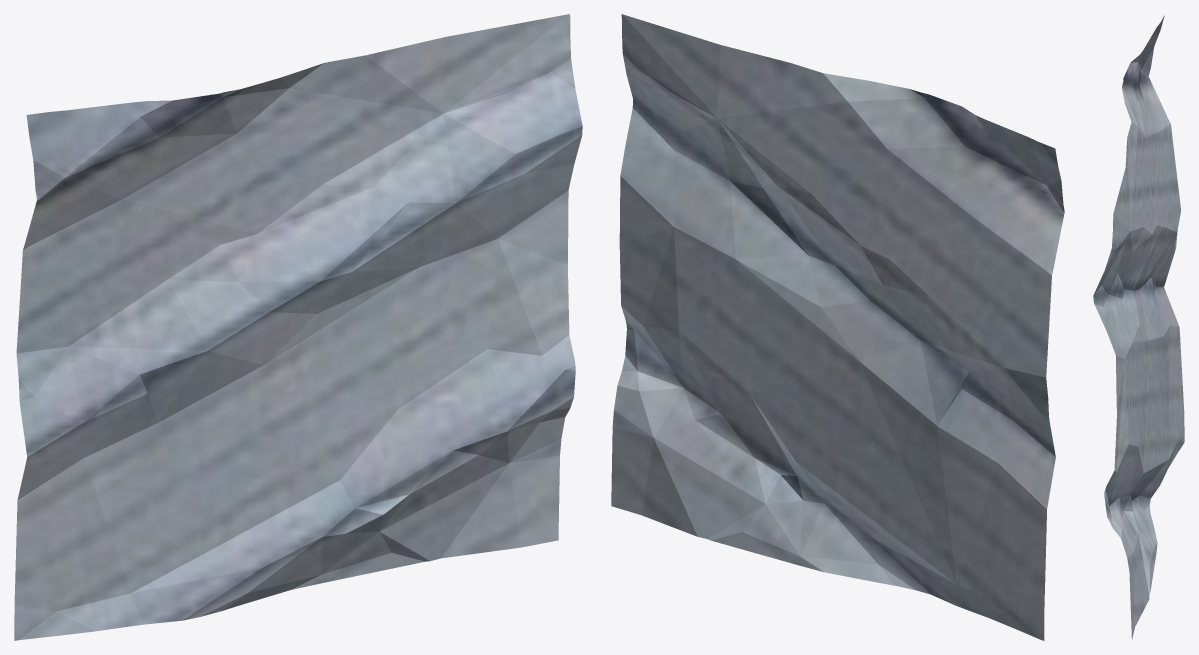
The model's file is Tile_+004_+007_L24_0003321.obj.
The picture shows the model from 3 angles, left to right: view 1: azimuth 30°, elevation 25°; view 2: azimuth 150°, elevation 25°; view 3: azimuth 270°, elevation 25°; orthographic projection. The views are drawn at different scales.
Size of the model in its own units: 0.9531 by 0.9531 by 0.1846.
Materials: 1 (1 with a texture image).
